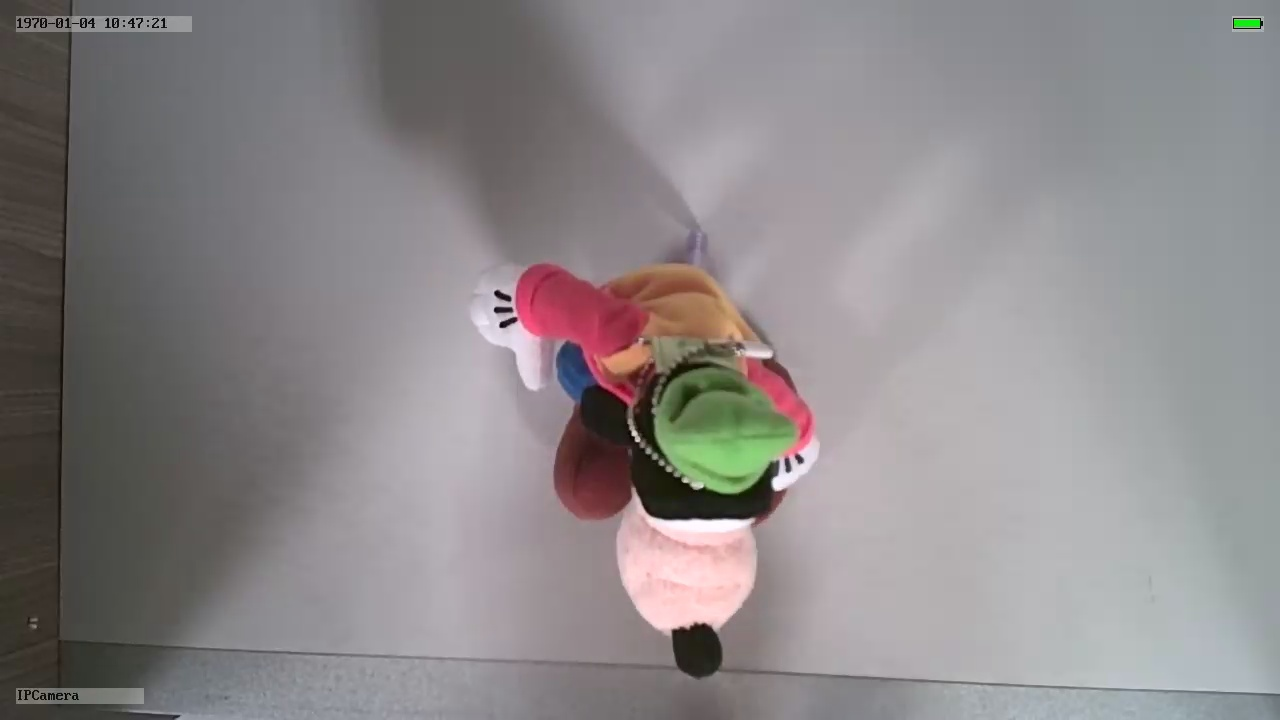goofy: (470, 259, 826, 679)
